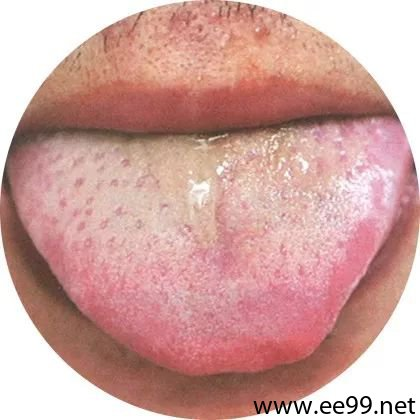baitaishe: (13, 133, 409, 378)
